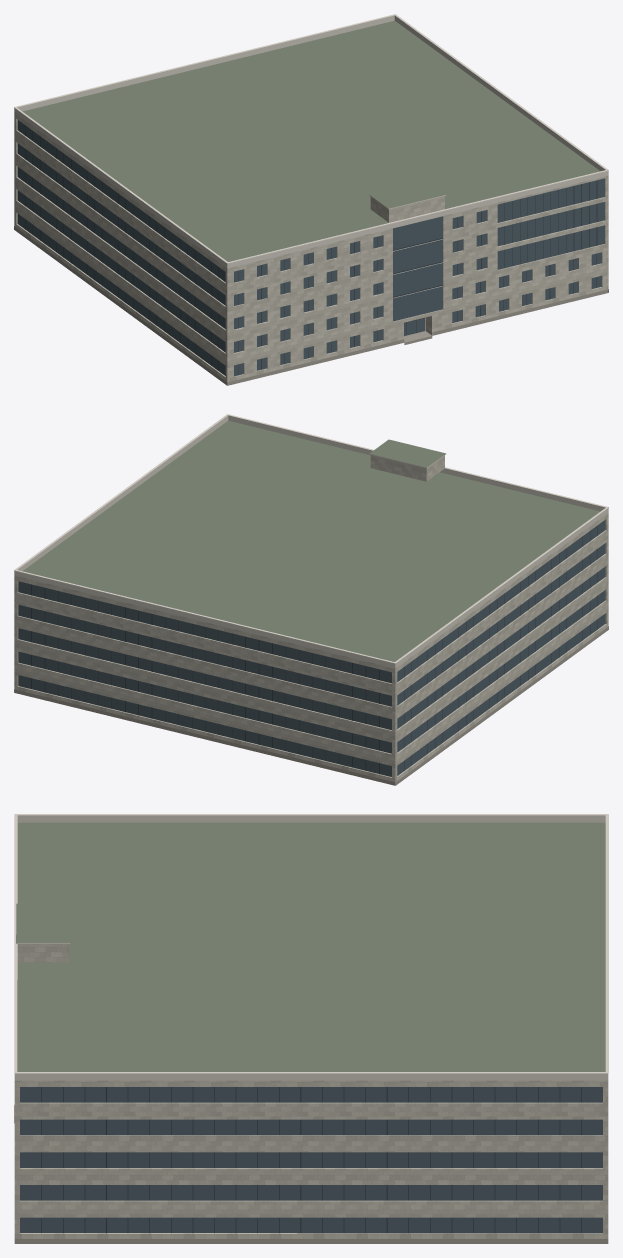
3 views of the same model, one above another, from view 1: azimuth 30°, elevation 25°; view 2: azimuth 150°, elevation 25°; view 3: azimuth 270°, elevation 25° (orthographic). The views are drawn at different scales.
Parts seen in each view (by area): view 1: library__roof, library__wall, library__glass, library__parapet, library__trim, library__frame, library__base; view 2: library__roof, library__wall, library__glass, library__parapet, library__frame, library__trim, library__base; view 3: library__roof, library__wall, library__glass, library__parapet, library__trim, library__base, library__frame.
Part boxes in pixels (box(x1,y1,x2,y2)): library__roof: box(22, 20, 599, 261); library__wall: box(14, 113, 608, 385); library__glass: box(17, 120, 604, 376); library__parapet: box(14, 15, 608, 268); library__trim: box(14, 14, 608, 263); library__frame: box(25, 125, 597, 374); library__base: box(14, 226, 608, 385); library__roof: box(23, 420, 600, 661); library__wall: box(14, 455, 608, 785); library__glass: box(18, 520, 605, 776); library__parapet: box(14, 415, 608, 668); library__frame: box(31, 525, 597, 774); library__trim: box(14, 414, 608, 663); library__base: box(14, 626, 608, 785); library__roof: box(16, 822, 605, 1071); library__wall: box(14, 944, 608, 1238); library__glass: box(20, 1087, 602, 1233); library__parapet: box(14, 815, 608, 1080); library__trim: box(14, 814, 608, 1074); library__base: box(14, 1104, 608, 1243); library__frame: box(41, 1087, 581, 1233).
Bounding box in the file's own units: 68.19 × 23.8 × 66.08.
Materials: 8 (1 with a texture image).
